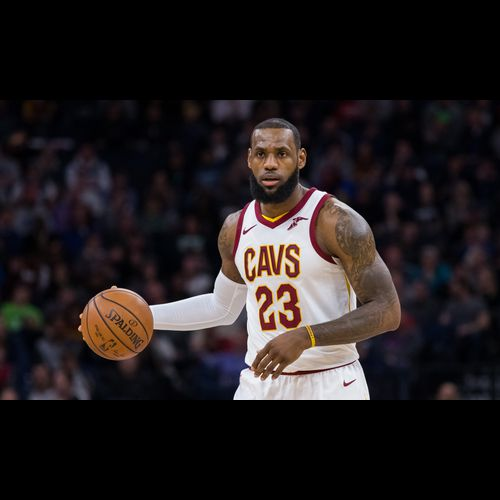ball: (80, 289, 152, 360)
